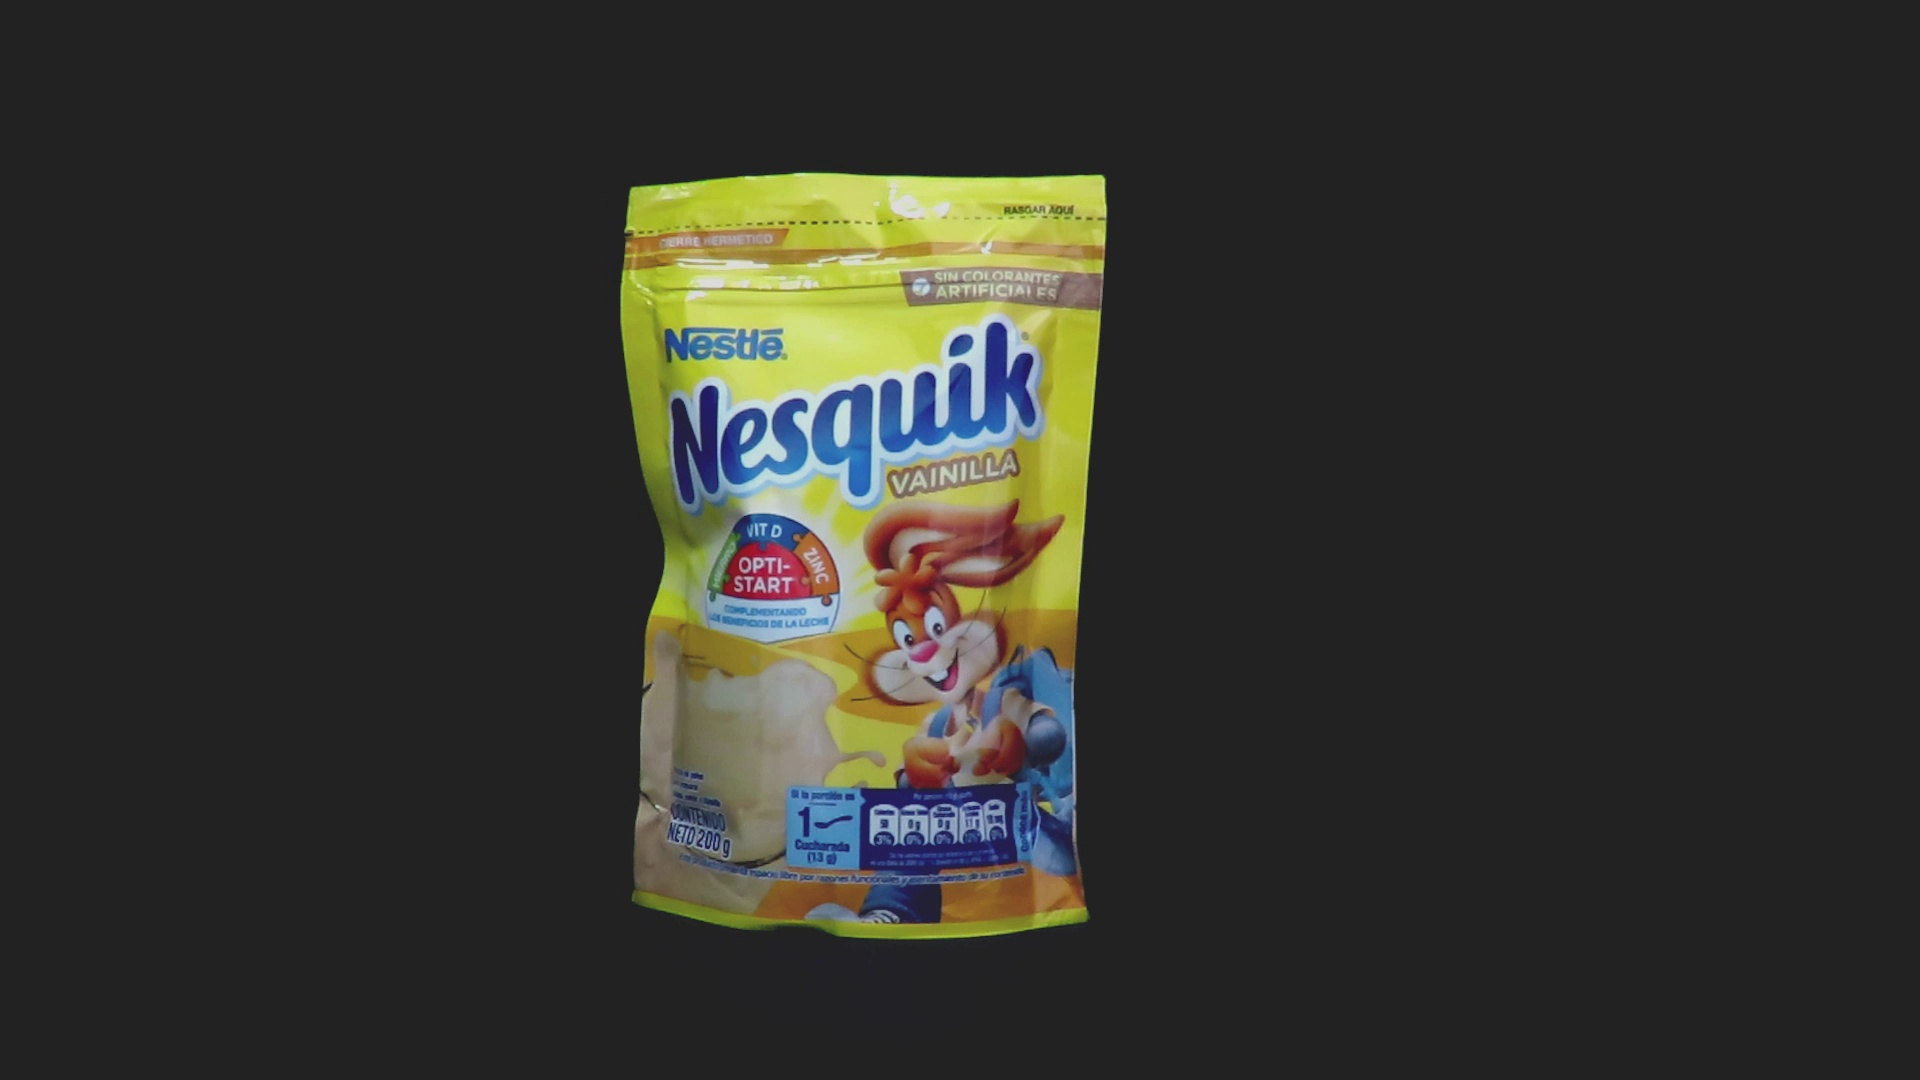COL0170306DYP20000: (615, 167, 1113, 945)
